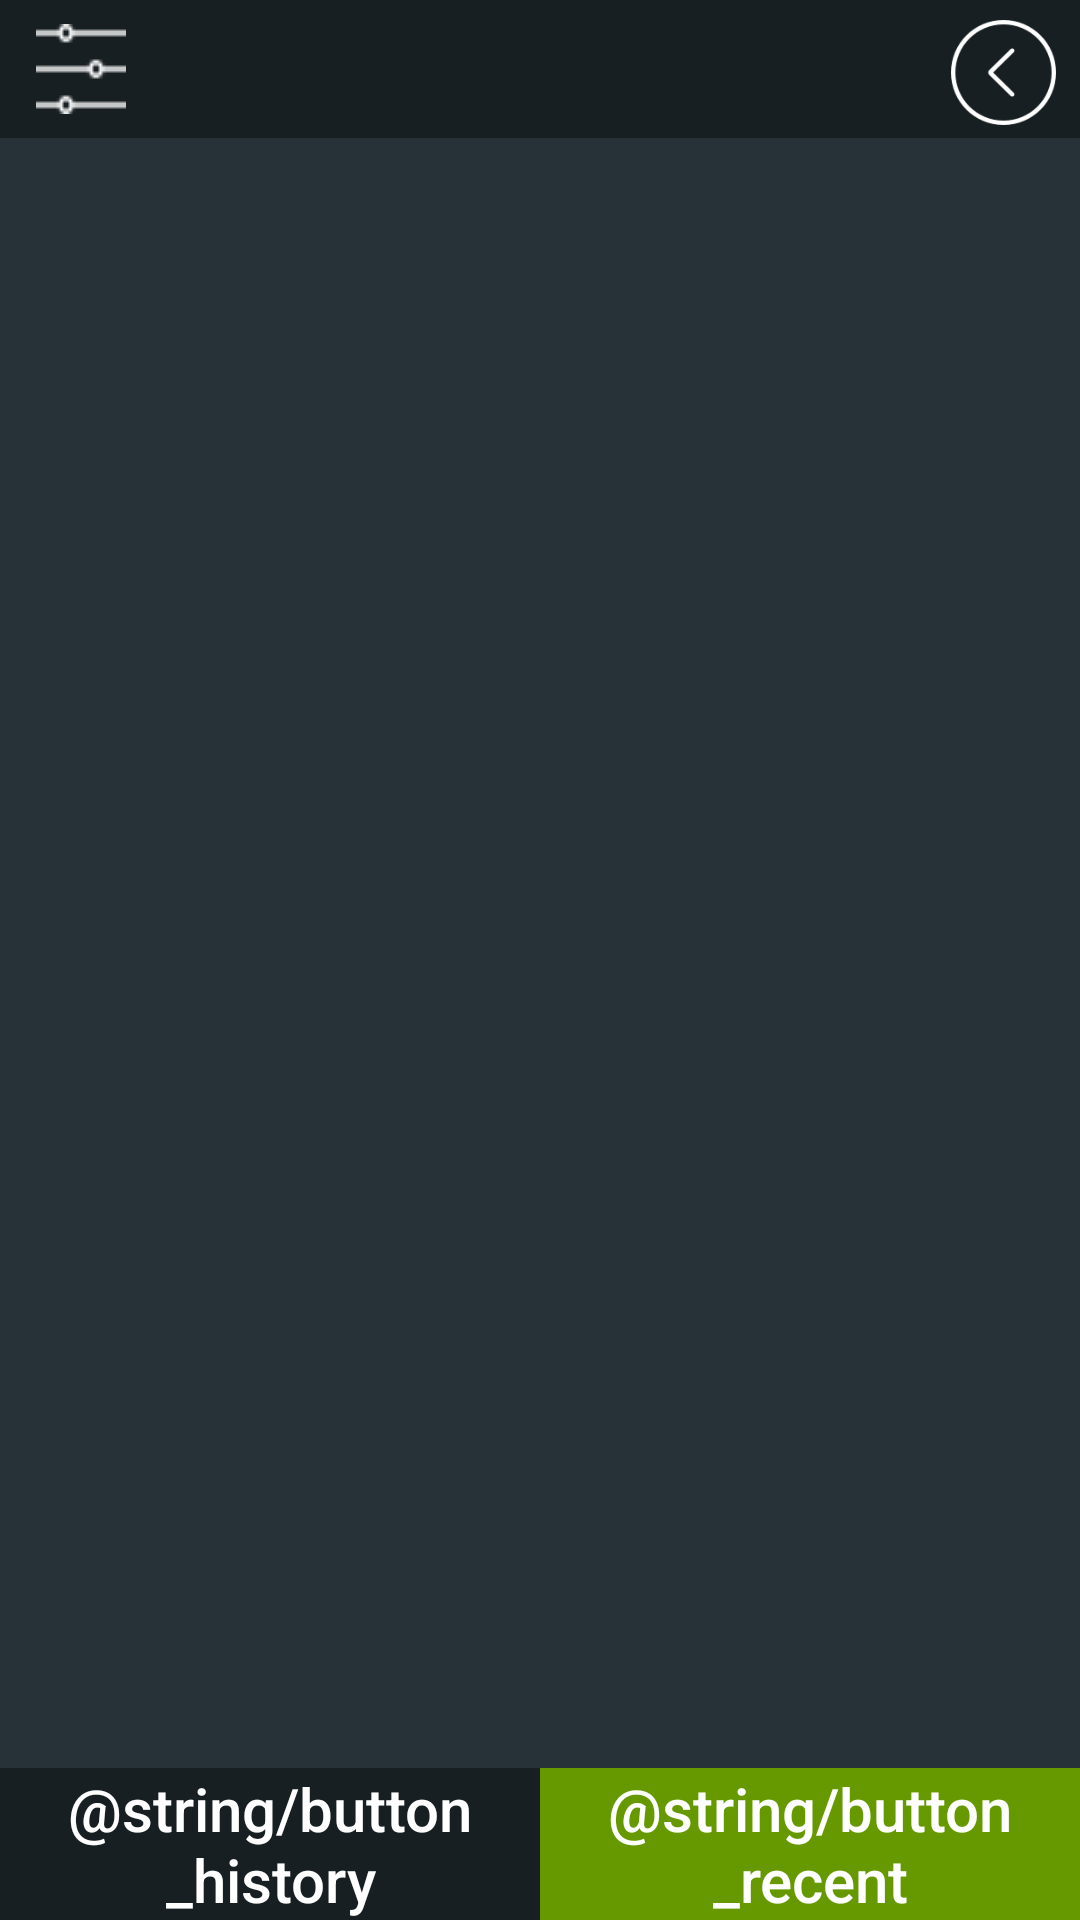

Where to tap for icons on this 1080×1920 app screen, as (x=x, y=y):
menu: (x=81, y=69)
